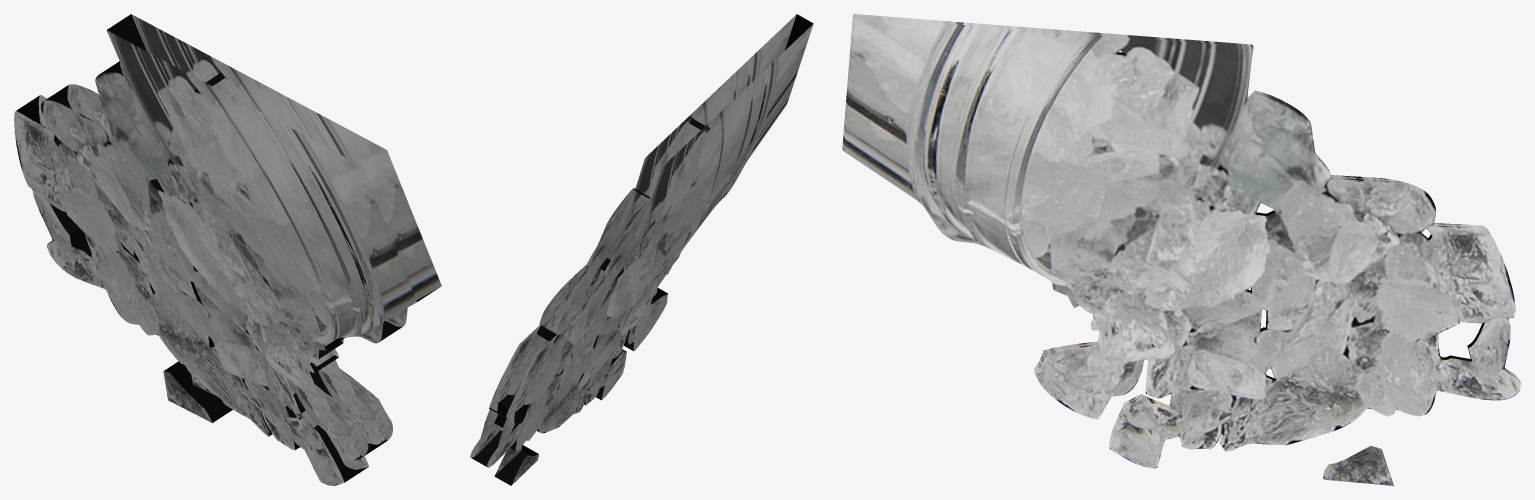
File: sabu.gltf
3 renders of one model, left to right at view 1: azimuth 30°, elevation 25°; view 2: azimuth 150°, elevation 25°; view 3: azimuth 270°, elevation 25°, orthographic. The views are drawn at different scales.
Parts seen in each view (by area): view 1: Layer_0; view 2: Layer_0; view 3: Layer_0.
Boxes of the visible parts, x1,y1,x2,y2 form: Layer_0: [14, 14, 441, 485]; Layer_0: [470, 14, 813, 485]; Layer_0: [842, 14, 1520, 485].
Size of the model in its own units: 7.02 by 19.46 by 28.35.
3 materials, 3 textured.
